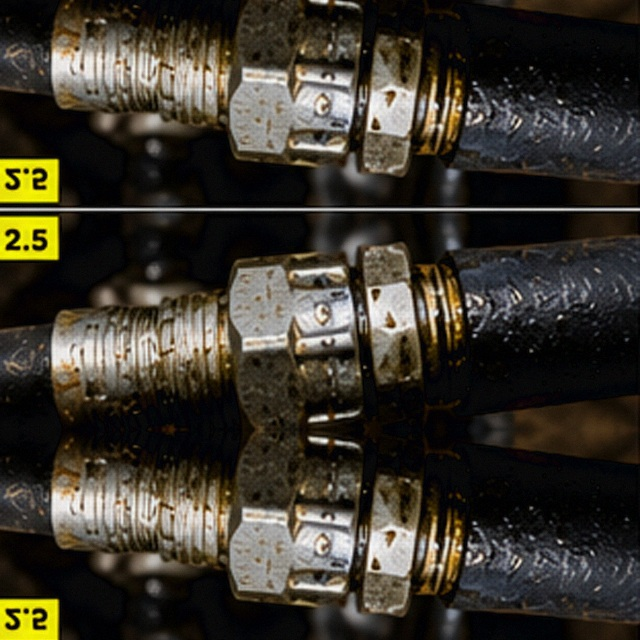hydraulic_oil_leak: (183, 259, 492, 454)
